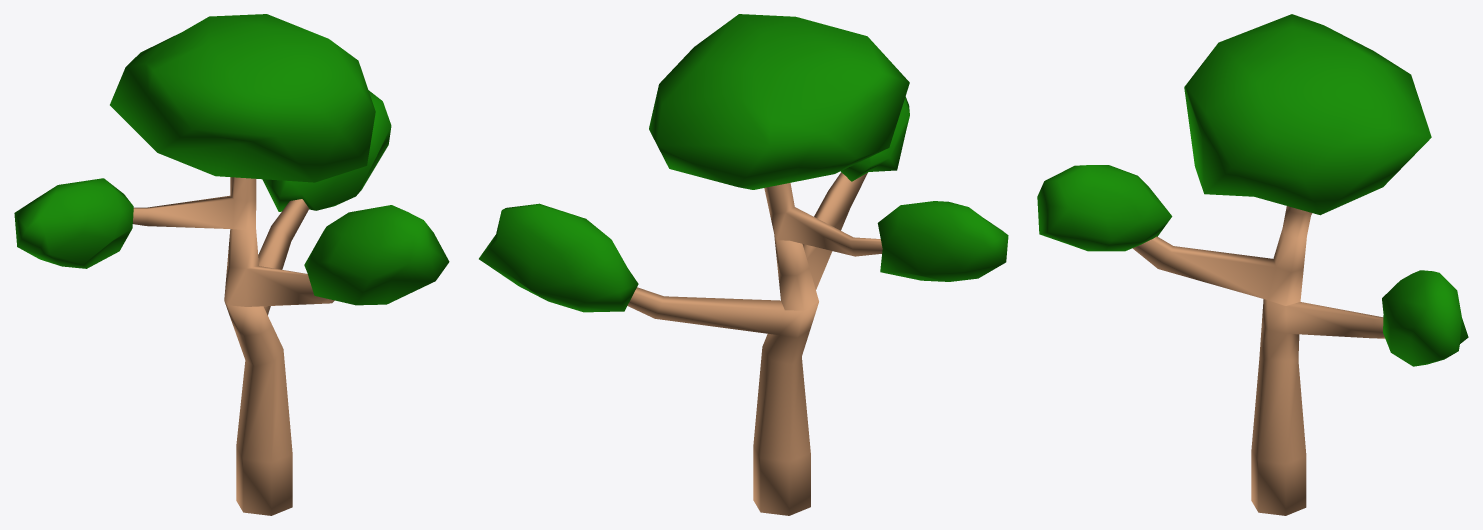
Rendered from tree.glb.
3 renders of one model, left to right at view 1: azimuth 30°, elevation 25°; view 2: azimuth 150°, elevation 25°; view 3: azimuth 270°, elevation 25°, orthographic. The views are drawn at different scales.
Parts seen in each view (by area): view 1: Icokugel.003, Zylinder, Icokugel.002, Icokugel.001, Icokugel; view 2: Icokugel.003, Zylinder, Icokugel, Icokugel.001, Icokugel.002; view 3: Icokugel.003, Zylinder, Icokugel.002, Icokugel.
Boxes of the visible parts, bbox=[...] form: Icokugel.003: bbox=[110, 14, 375, 182]; Zylinder: bbox=[133, 177, 334, 515]; Icokugel.002: bbox=[304, 205, 449, 305]; Icokugel.001: bbox=[14, 178, 133, 268]; Icokugel: bbox=[262, 90, 391, 211]; Icokugel.003: bbox=[649, 14, 909, 189]; Zylinder: bbox=[627, 172, 882, 515]; Icokugel: bbox=[479, 203, 638, 312]; Icokugel.001: bbox=[877, 201, 1008, 281]; Icokugel.002: bbox=[840, 96, 909, 181]; Icokugel.003: bbox=[1184, 14, 1431, 215]; Zylinder: bbox=[1132, 206, 1385, 515]; Icokugel.002: bbox=[1037, 165, 1172, 251]; Icokugel: bbox=[1382, 270, 1468, 366].
Bounding box in the file's own units: 17.29 × 17.58 × 15.11.
